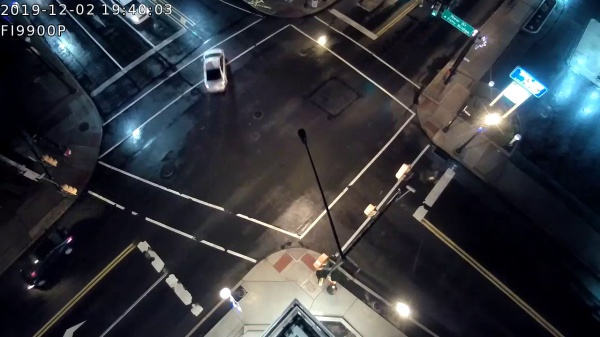car: (16, 223, 77, 291), (197, 46, 233, 97), (109, 1, 153, 27)
